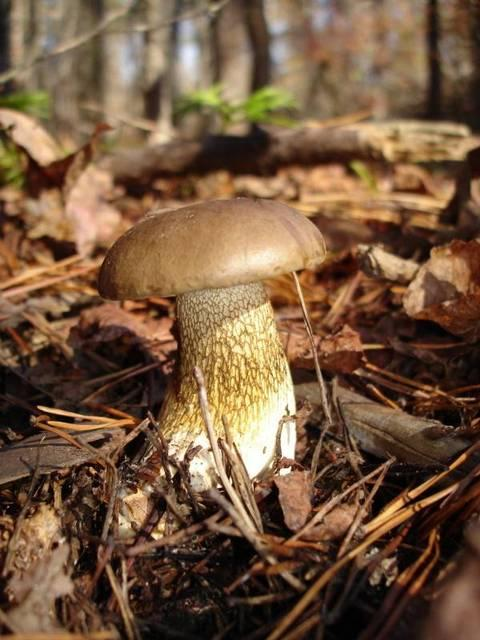poisonous_mushroom: (95, 195, 328, 498)
